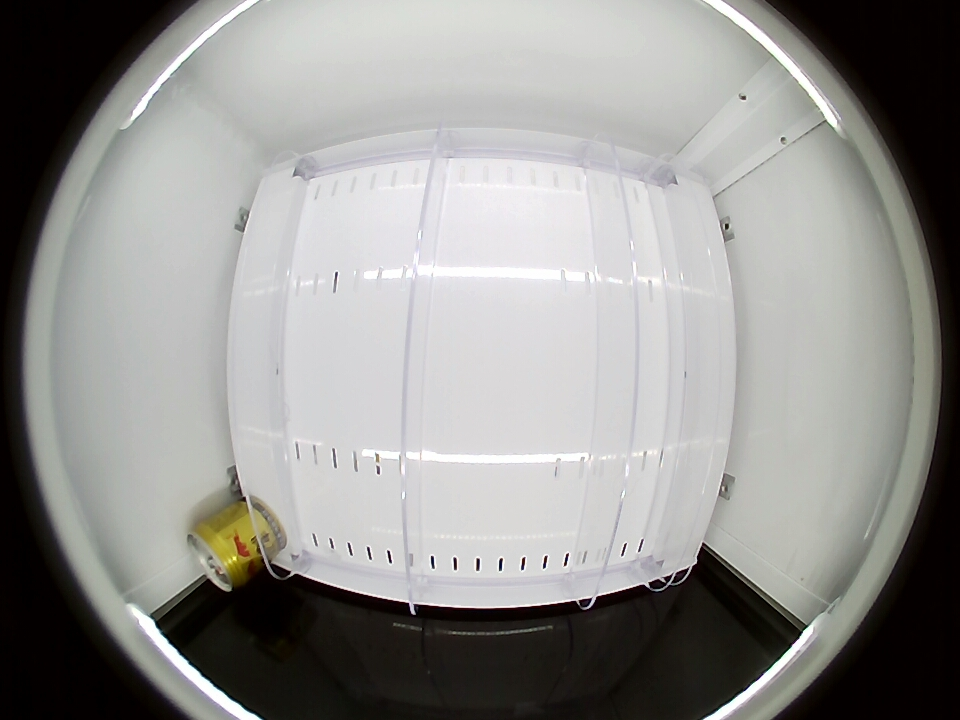hongniu2: (188, 519, 249, 593)
